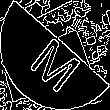M_NE: (24, 21, 86, 89)
